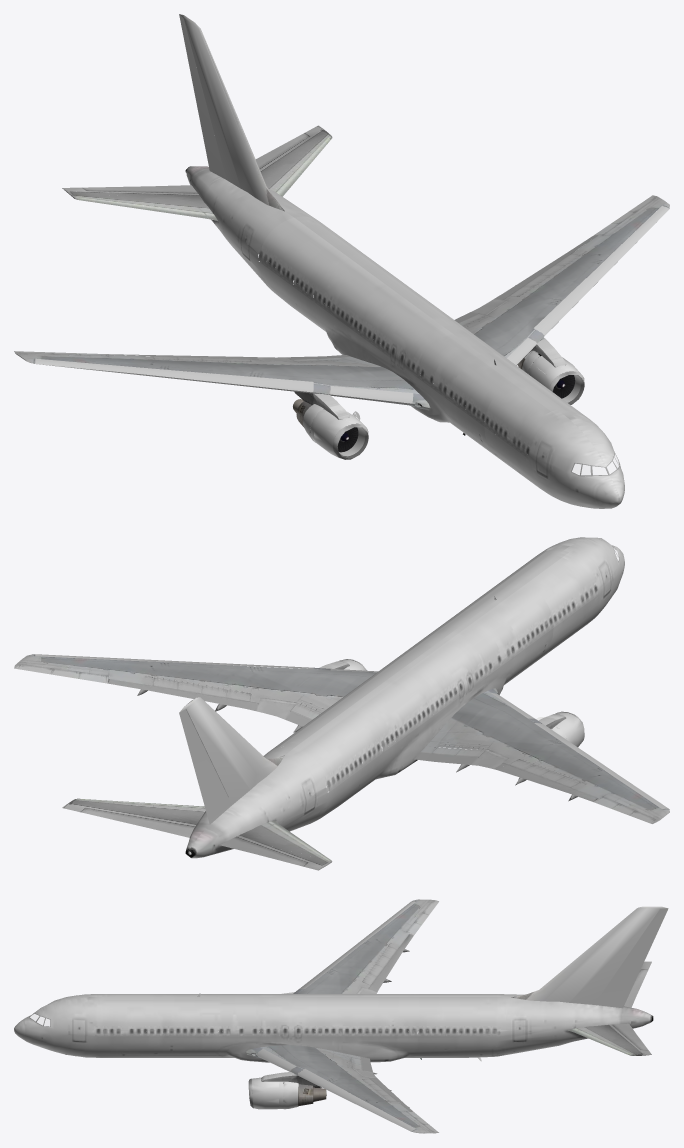
3 views of the same model, one above another, from view 1: azimuth 30°, elevation 25°; view 2: azimuth 150°, elevation 25°; view 3: azimuth 270°, elevation 25° (orthographic). The views are drawn at different scales.
Parts seen in each view (by area): view 1: Fuselage, RWing.002, GDR, Orelinhas.003, LfConeTurbofan; view 2: Fuselage, RWing.002, GDR, Orelinhas.003, speedbrake_RE.003; view 3: Fuselage, RWing.002, GDR, Orelinhas.003, speedbrake_RE.003.
Part boxes in pixels (bbox=[...]): Fuselage: bbox=[185, 166, 624, 508]; RWing.002: bbox=[14, 125, 669, 452]; GDR: bbox=[179, 14, 584, 459]; Orelinhas.003: bbox=[35, 205, 669, 476]; LfConeTurbofan: bbox=[338, 375, 584, 458]; Fuselage: bbox=[185, 537, 624, 858]; RWing.002: bbox=[14, 598, 669, 870]; GDR: bbox=[179, 590, 596, 824]; Orelinhas.003: bbox=[35, 546, 668, 808]; speedbrake_RE.003: bbox=[152, 679, 578, 787]; Fuselage: bbox=[14, 994, 653, 1062]; RWing.002: bbox=[245, 899, 651, 1133]; GDR: bbox=[100, 906, 668, 1109]; Orelinhas.003: bbox=[29, 901, 481, 1131]; speedbrake_RE.003: bbox=[367, 947, 396, 1101].
Size of the model in its own units: 46.31 by 15.01 by 55.04.
Materials: 17 (17 with a texture image).
